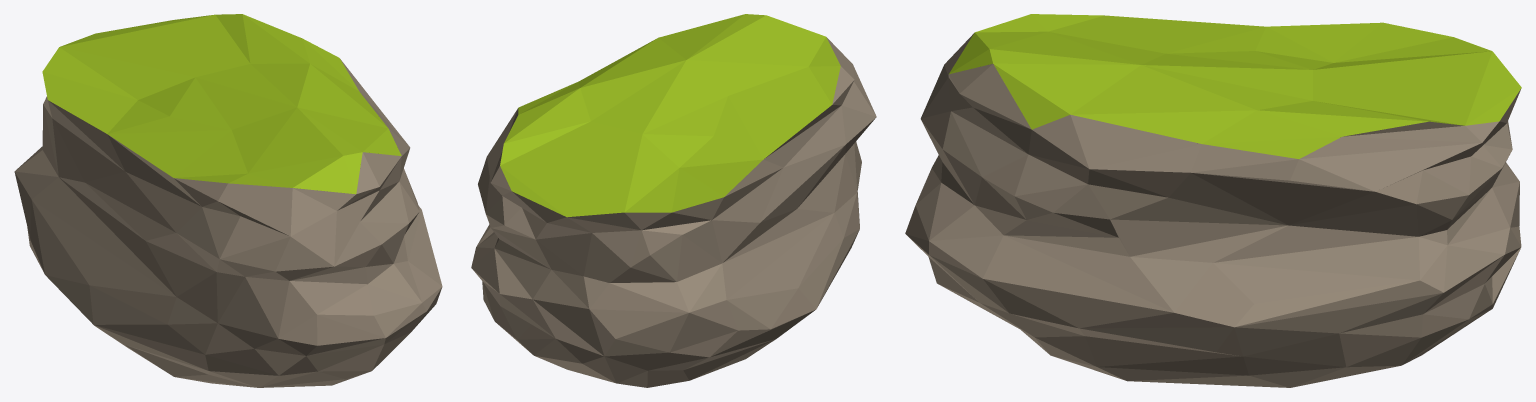
The model's file is village_pack_rock_5.glb.
3 renders of one model, left to right at view 1: azimuth 30°, elevation 25°; view 2: azimuth 150°, elevation 25°; view 3: azimuth 270°, elevation 25°, orthographic. The views are drawn at different scales.
Visible parts, largest first — view 1: rock 5_grass 1_0; view 2: rock 5_grass 1_0; view 3: rock 5_grass 1_0.
Boxes of the visible parts, x1,y1,x2,y2 form: rock 5_grass 1_0: [14, 14, 442, 387]; rock 5_grass 1_0: [471, 14, 876, 387]; rock 5_grass 1_0: [905, 14, 1521, 387].
Size of the model in its own units: 8.04 by 6.64 by 11.49.
